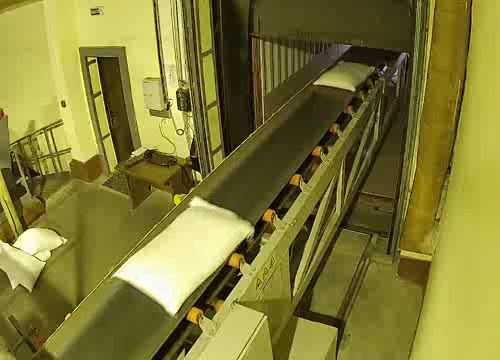bag: (107, 197, 257, 317), (312, 58, 376, 93)
